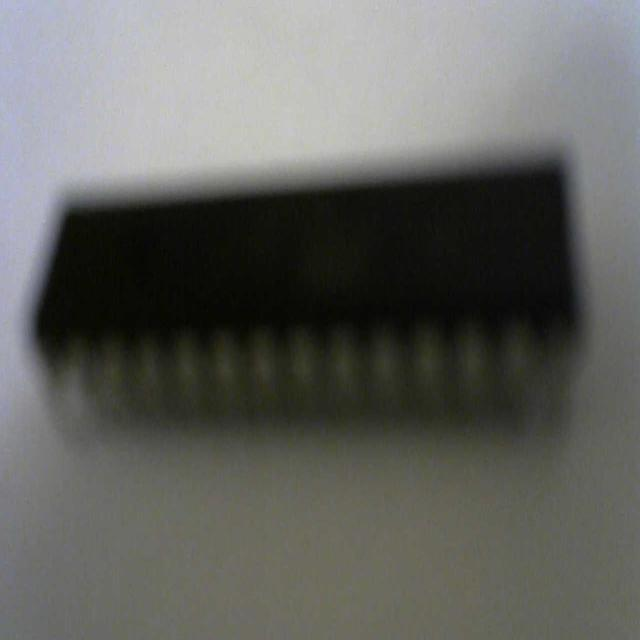atmega: (30, 152, 585, 442)
